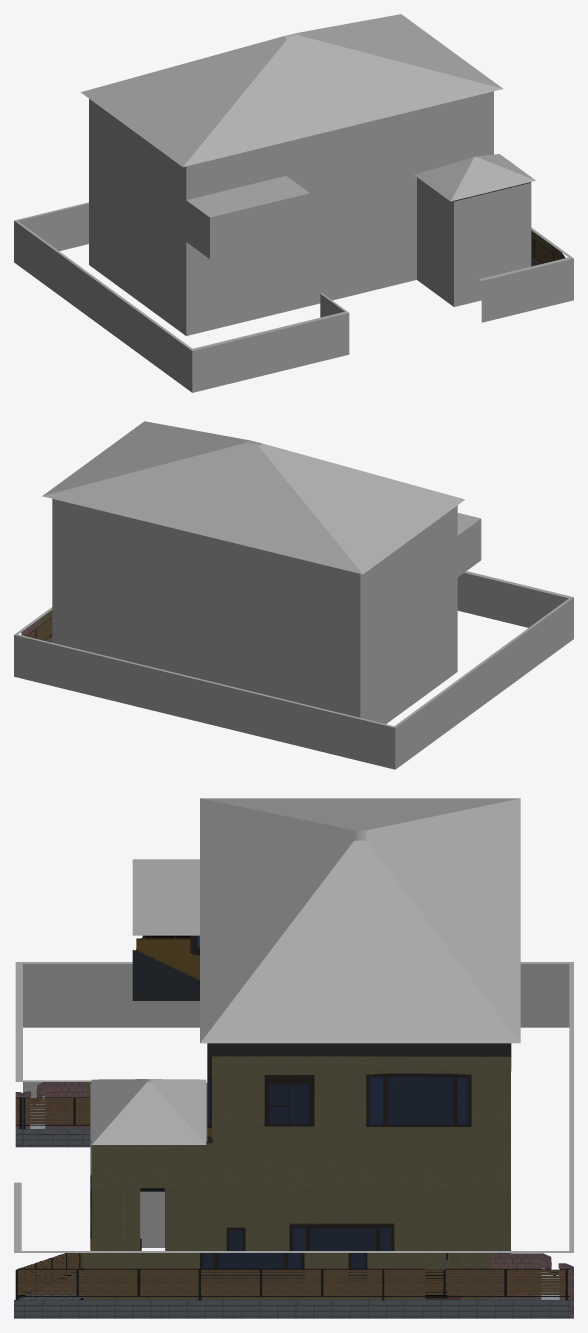
File: House_001_Low.fbx
The picture shows the model from 3 angles, top to bottom: view 1: azimuth 30°, elevation 25°; view 2: azimuth 150°, elevation 25°; view 3: azimuth 270°, elevation 25°; orthographic projection. The views are drawn at different scales.
Visible parts, largest first — view 1: House_001_low; view 2: House_001_low; view 3: House_001_low.
Boxes of the visible parts, box(x1,y1,x2,y2) form: House_001_low: box(14, 14, 573, 392); House_001_low: box(14, 421, 573, 769); House_001_low: box(14, 798, 573, 1318).
Size of the model in its own units: 1240 by 704 by 1008.
5 materials, 1 textured.
